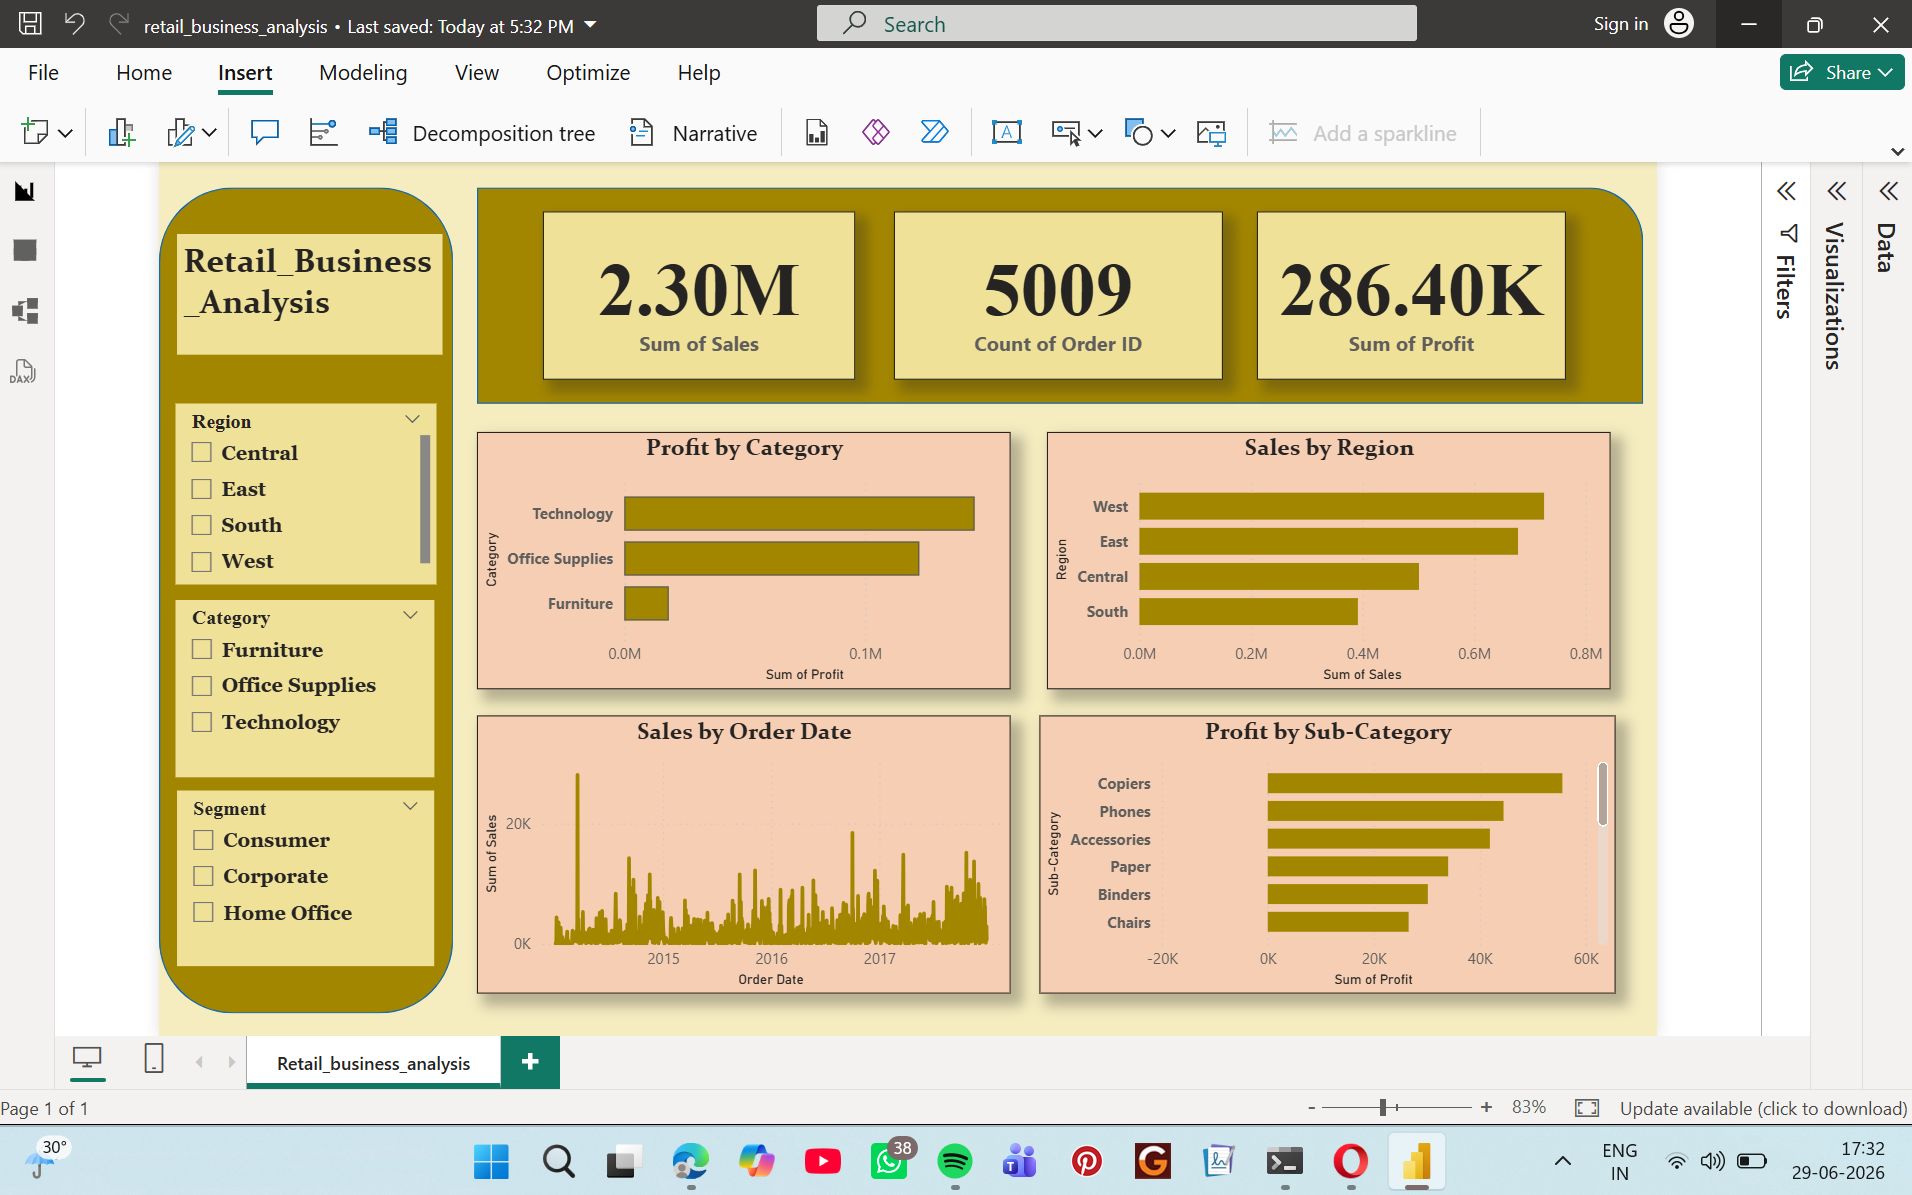

The dashboard page shown, as its layout file describes it:
{"tool":"powerbi","page":{"name":"Retail_business_analysis","canvas":[1200,700],"ordinal":0},"visuals":[{"type":"shape","box":[0,19.9,235.6,661.5],"z":0},{"type":"shape","box":[254.1,19.9,934.1,173.2],"z":1000},{"type":"card","title":" ","fields":{"Values":["Sum(Sample - Superstore.Profit)"]},"box":[879.4,39.6,247.5,134.6],"z":2000},{"type":"card","fields":{"Values":["Sum(Sample - Superstore.Sales)"]},"box":[307.6,39.6,249.9,134.6],"z":3000},{"type":"card","fields":{"Values":["Count(Sample - Superstore.Order ID)"]},"box":[588.7,39.6,263.1,134.6],"z":4000},{"type":"clusteredBarChart","title":"  Profit by Category","fields":{"Category":["Sample - Superstore.Category"],"Y":["Sum(Sample - Superstore.Profit)"]},"box":[254.1,215.8,427.3,205.8],"z":5000},{"type":"barChart","title":" Sales by Region","fields":{"Category":["Sample - Superstore.Region"],"Y":["Sum(Sample - Superstore.Sales)"]},"box":[711.2,215.8,451.4,205.8],"z":6000},{"type":"lineChart","title":"  Sales by Order Date","fields":{"Category":["Sample - Superstore.Order Date"],"Y":["Sum(Sample - Superstore.Sales)"]},"box":[254.1,442.9,427.3,222.9],"z":7000},{"type":"barChart","title":"  Profit by Sub-Category","fields":{"Category":["Sample - Superstore.Sub-Category"],"Y":["Sum(Sample - Superstore.Profit)"]},"box":[705.5,442.9,461.4,222.9],"z":8000},{"type":"slicer","fields":{"Values":["Sample - Superstore.Category"]},"box":[12.8,350.6,207.3,142],"z":9000},{"type":"slicer","fields":{"Values":["Sample - Superstore.Segment"]},"box":[14.2,503.9,205.8,140.5],"z":10000},{"type":"slicer","fields":{"Values":["Sample - Superstore.Region"]},"box":[12.8,193.1,208.7,144.8],"z":11000},{"type":"textbox","box":[14.4,57.7,212.6,105.7],"z":11001}]}

Visuals, with their boxes on the page's 1200x700 design canvas (x1, y1, x2, y2). These are canvas units, not pixel positions in the 1912x1195 screenshot, which may show the page scaled, cropped or inside an application window:
shape: 0,20,236,681
shape: 254,20,1188,193
" " card: 879,40,1127,174
card - Sum(Sample - Superstore.Sales): 308,40,558,174
card - Count(Sample - Superstore.Order ID): 589,40,852,174
"  Profit by Category" clusteredBarChart: 254,216,681,422
" Sales by Region" barChart: 711,216,1163,422
"  Sales by Order Date" lineChart: 254,443,681,666
"  Profit by Sub-Category" barChart: 706,443,1167,666
slicer - Sample - Superstore.Category: 13,351,220,493
slicer - Sample - Superstore.Segment: 14,504,220,644
slicer - Sample - Superstore.Region: 13,193,222,338
textbox: 14,58,227,163
